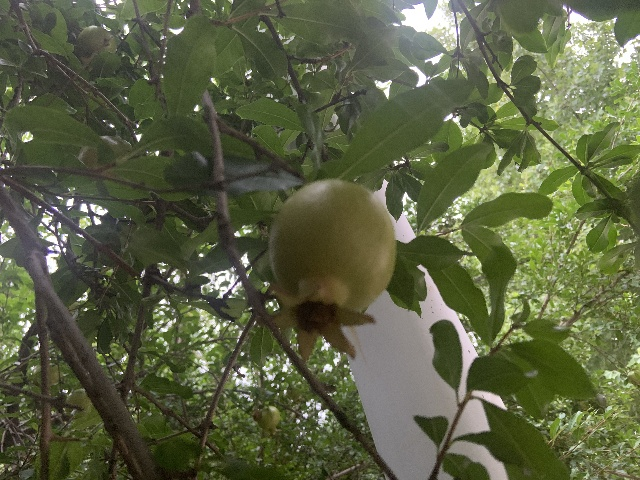mid-growth: (266, 178, 397, 362), (257, 405, 281, 436)
